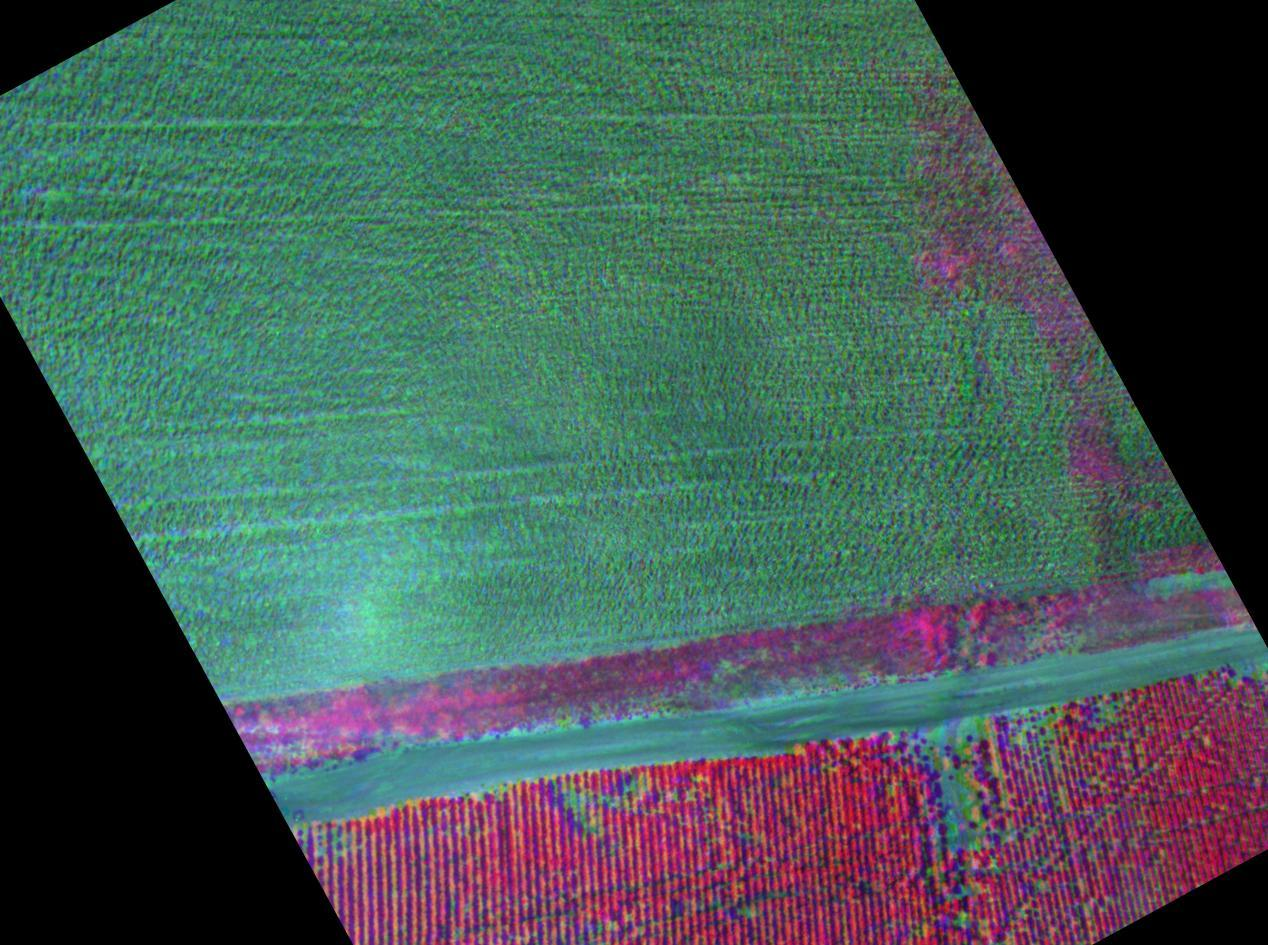dc: (953, 775, 971, 790), (569, 795, 586, 810), (948, 819, 963, 833), (943, 795, 956, 808), (966, 818, 978, 832), (572, 815, 586, 824), (740, 908, 753, 917), (963, 801, 975, 810), (959, 839, 968, 849), (961, 916, 969, 926), (597, 792, 604, 803), (941, 762, 950, 769)
